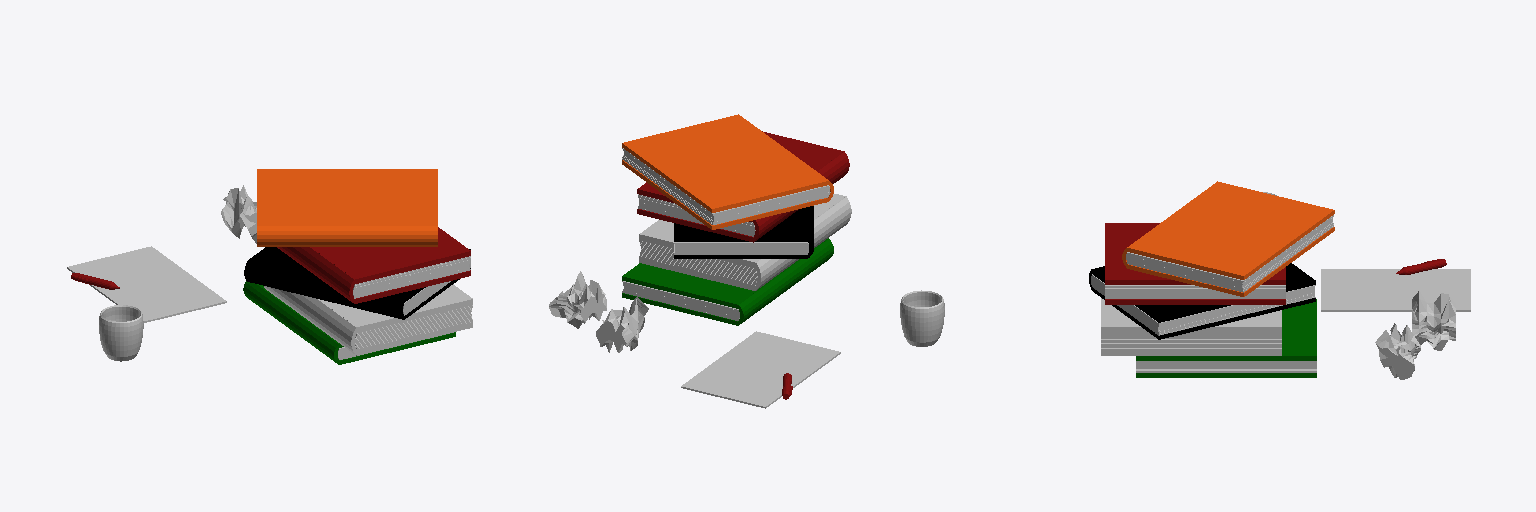
File: Books.obj
The picture shows the model from 3 angles: view 1: azimuth 30°, elevation 25°; view 2: azimuth 150°, elevation 25°; view 3: azimuth 270°, elevation 25°; orthographic projection.
Parts seen in each view (by area): view 1: Box93, Box16, Box94, Box75, Box61, Line01, Box03, Box31, Box30, Box76, Box17, Box60 (+3 smaller); view 2: Box93, Box16, Box02, Line01, Box03, Box113, Box60, Box31, Box17, Box75, Box30, Box76 (+4 smaller); view 3: Box93, Box16, Box02, Box75, Box17, Box30, Box113, Box60, Box32, Box77, Box80, Box01 (+1 smaller).
Part boxes in pixels (x1,y1,x2,y2): Box93: (257, 169, 437, 225); Box16: (67, 246, 226, 322); Box94: (257, 226, 437, 246); Box75: (311, 227, 470, 283); Box61: (244, 261, 405, 319); Line01: (99, 305, 143, 361); Box03: (243, 281, 341, 364); Box31: (264, 286, 359, 354); Box30: (319, 284, 472, 332); Box76: (277, 247, 356, 303); Box17: (221, 185, 256, 243); Box60: (248, 247, 470, 302); Box93: (622, 115, 828, 212); Box16: (681, 331, 840, 408); Box02: (622, 238, 828, 308); Line01: (900, 290, 944, 346); Box03: (735, 239, 833, 325); Box113: (549, 271, 606, 328); Box60: (674, 207, 807, 241); Box31: (753, 196, 851, 290); Box17: (596, 297, 648, 352); Box75: (637, 131, 843, 222); Box30: (639, 194, 845, 267); Box76: (754, 151, 849, 241); Box93: (1128, 182, 1334, 279); Box16: (1321, 269, 1470, 311); Box02: (1136, 300, 1316, 360); Box75: (1105, 224, 1285, 284); Box17: (1412, 290, 1455, 350); Box30: (1101, 298, 1281, 332); Box113: (1375, 323, 1420, 379); Box60: (1092, 263, 1315, 322); Box32: (1101, 350, 1281, 355); Box77: (1105, 299, 1285, 304); Box80: (1128, 227, 1334, 296); Box01: (1136, 373, 1316, 377).
Size of the model in its own units: 115 by 39.95 by 116.